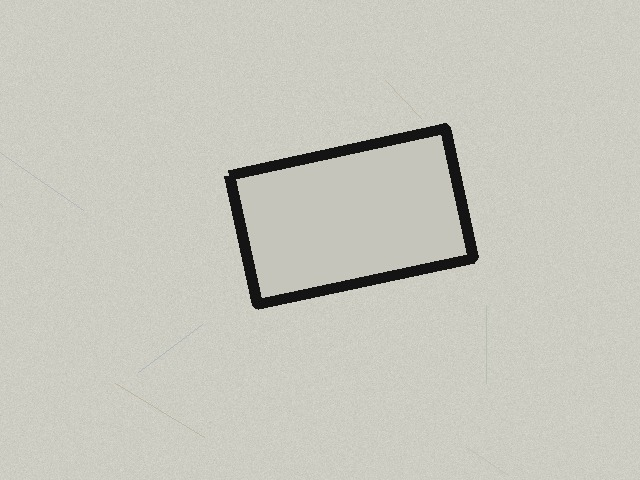parking_area: (229, 128, 473, 304)
